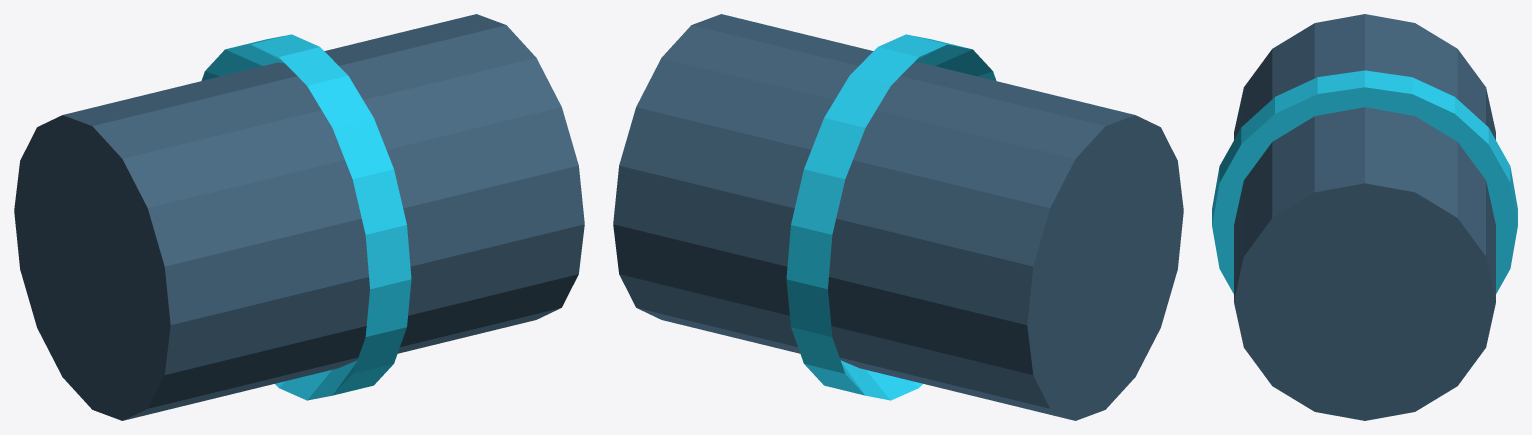
Rendered from 30_L69_RefrigerantMassFlowMeter.fbx.
3 renders of one model, left to right at view 1: azimuth 30°, elevation 25°; view 2: azimuth 150°, elevation 25°; view 3: azimuth 270°, elevation 25°, orthographic. The views are drawn at different scales.
Visible parts, largest first — view 1: RefrigerantMassFlowMeter; view 2: RefrigerantMassFlowMeter; view 3: RefrigerantMassFlowMeter.
Part boxes in pixels (box(x1,y1,x2,y2)): RefrigerantMassFlowMeter: box(14, 14, 584, 420); RefrigerantMassFlowMeter: box(613, 14, 1183, 420); RefrigerantMassFlowMeter: box(1212, 14, 1517, 420).
Size of the model in its own units: 55 by 42 by 42.
